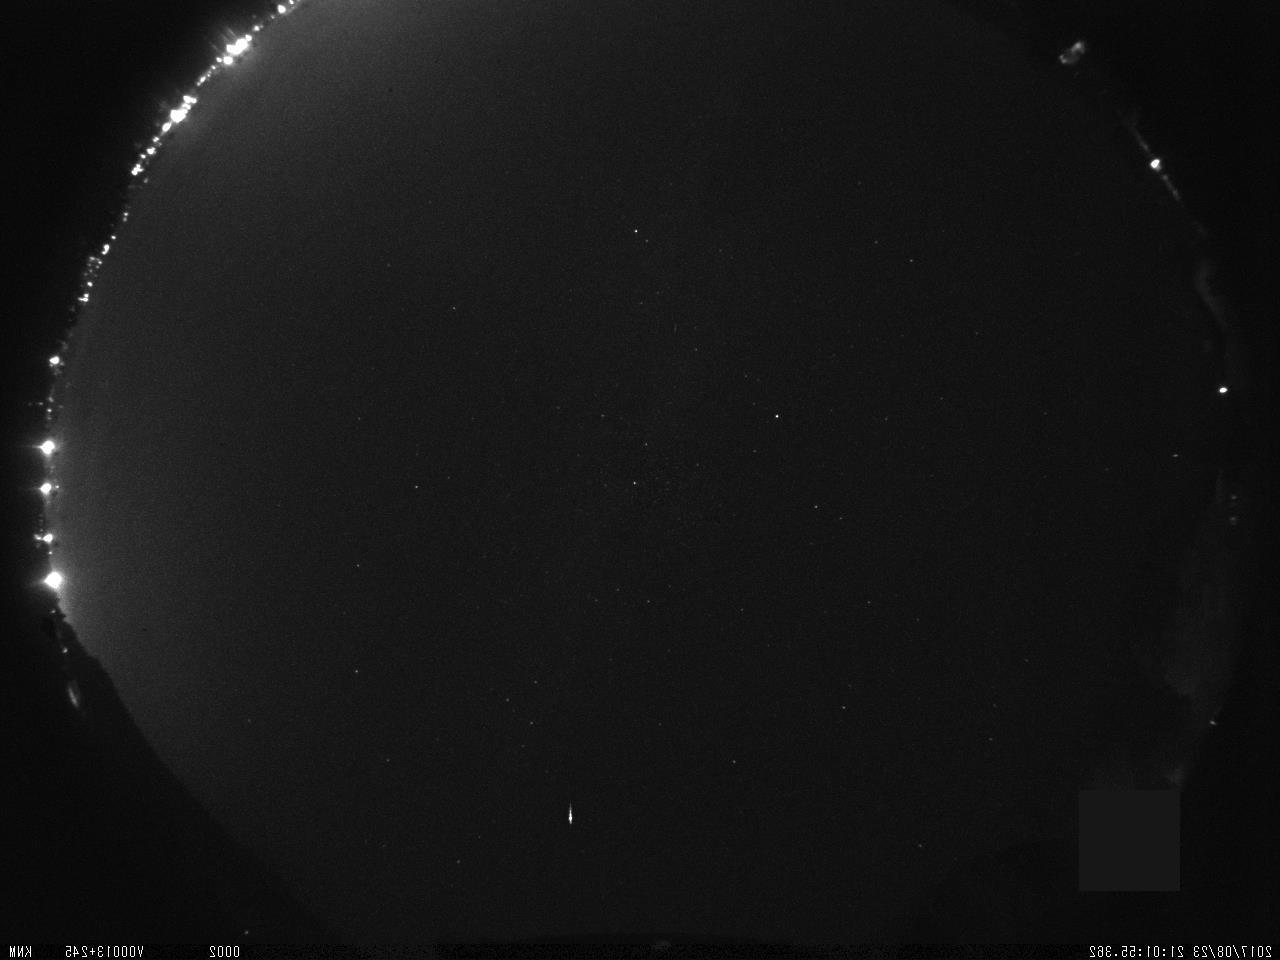meteor: (554, 792, 592, 834)
